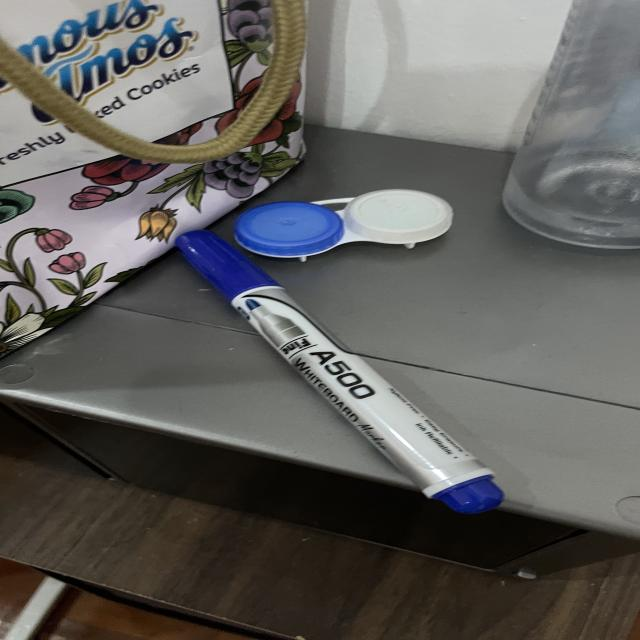marker: (176, 230, 503, 514)
